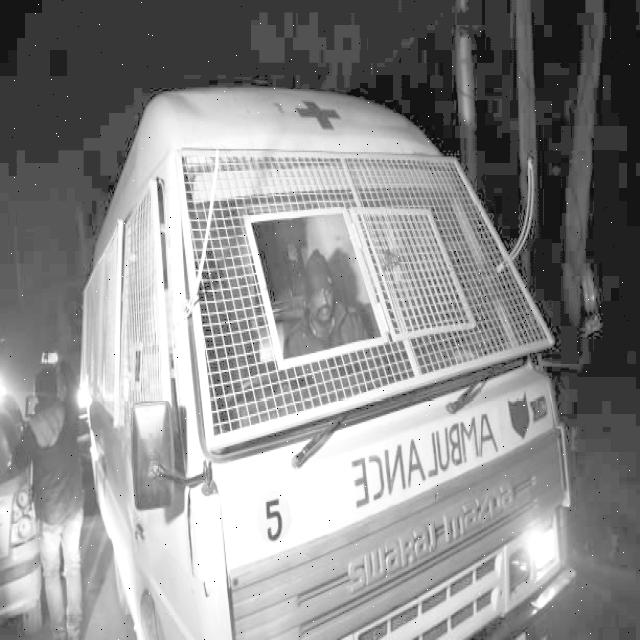Ambulance: (339, 405, 502, 516), (289, 92, 343, 144)
